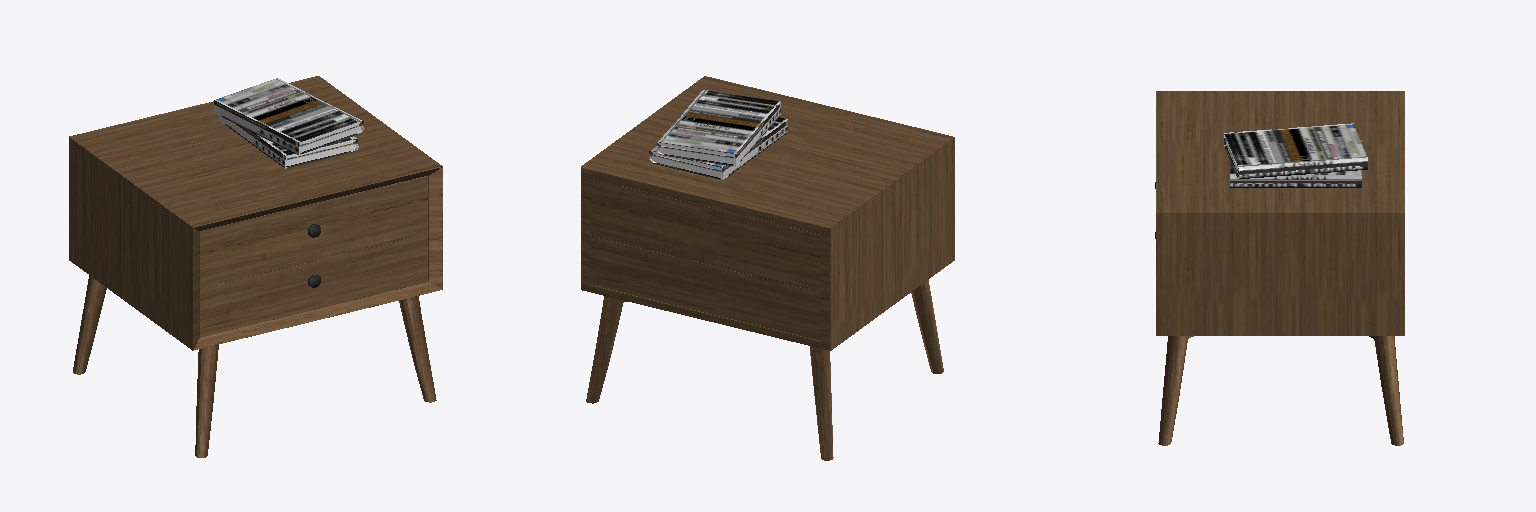
3 views of the same model, side by side, from view 1: azimuth 30°, elevation 25°; view 2: azimuth 150°, elevation 25°; view 3: azimuth 270°, elevation 25° (orthographic).
Parts seen in each view (by area): view 1: solid_002, solid_004, solid_003; view 2: solid_002, solid_004, solid_003; view 3: solid_002, solid_004.
Boxes of the visible parts, <box> form: solid_002: <box>69,76,442,457</box>; solid_004: <box>214,78,363,168</box>; solid_003: <box>286,121,361,165</box>; solid_002: <box>581,76,954,460</box>; solid_004: <box>649,90,787,179</box>; solid_003: <box>651,143,734,177</box>; solid_002: <box>1156,91,1404,445</box>; solid_004: <box>1224,123,1367,187</box>.
Bounding box in the file's own units: 1.34 × 1.33 × 1.16.
Materials: 1 (1 with a texture image).